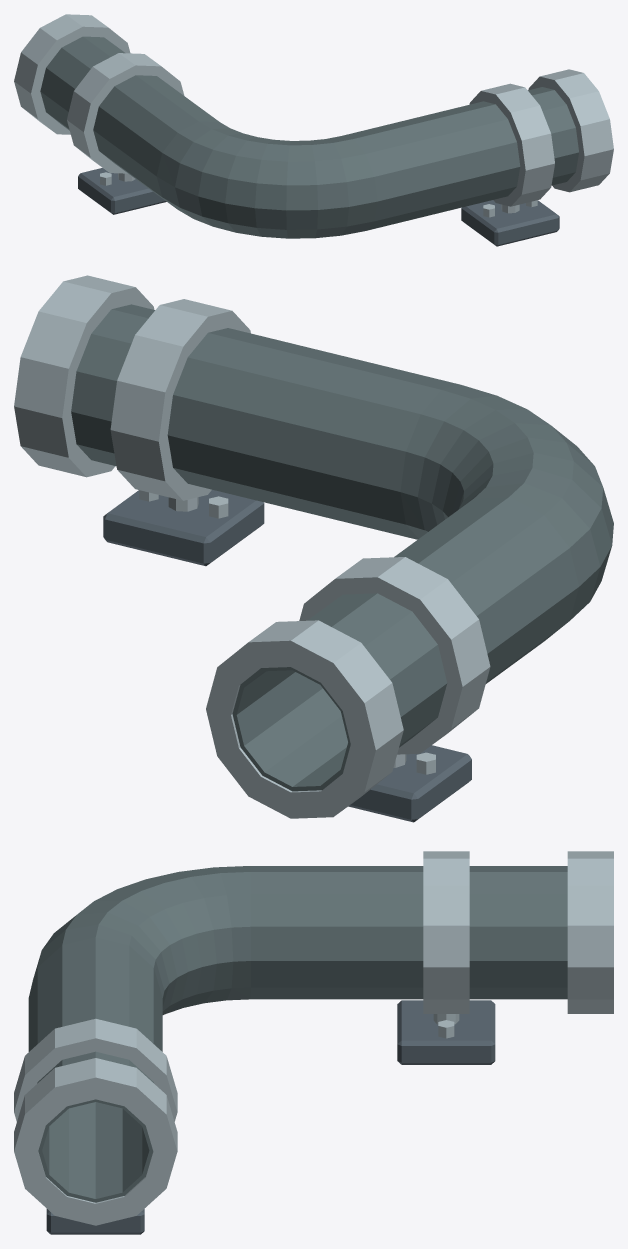
Rendered from 01_pipe_sewer_floor_elbow.glb.
3 renders of one model, top to bottom at view 1: azimuth 30°, elevation 25°; view 2: azimuth 150°, elevation 25°; view 3: azimuth 270°, elevation 25°, orthographic. The views are drawn at different scales.
Parts seen in each view (by area): view 1: 01_pipe_sewer_floor_elbow; view 2: 01_pipe_sewer_floor_elbow; view 3: 01_pipe_sewer_floor_elbow.
Boxes of the visible parts, box(x1,y1,x2,y2) form: 01_pipe_sewer_floor_elbow: box(14, 14, 613, 246); 01_pipe_sewer_floor_elbow: box(14, 275, 613, 822); 01_pipe_sewer_floor_elbow: box(14, 851, 613, 1234).
Bounding box in the file's own units: 1.16 × 0.3986 × 1.16.
